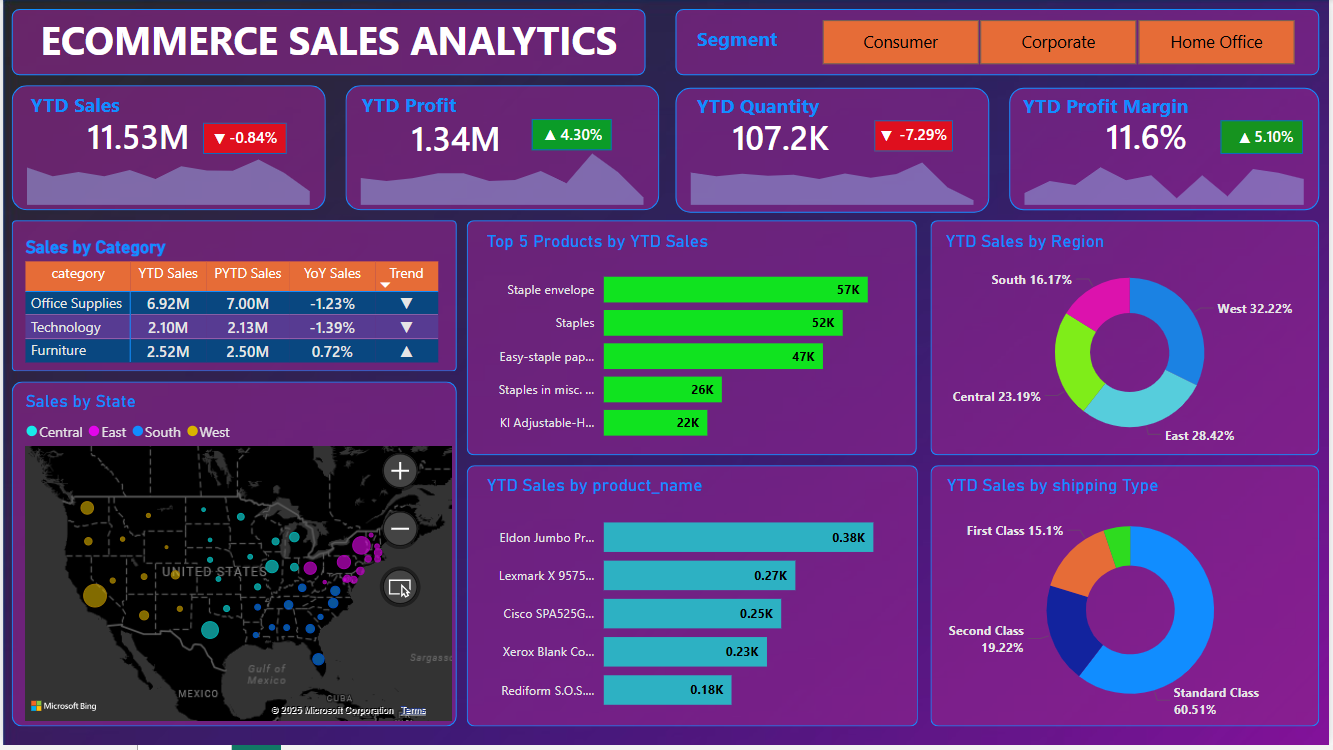

Layout of this report page (visuals, bound fields, positions):
{"tool":"powerbi","page":{"name":"Page 1","canvas":[1280,720],"ordinal":0},"visuals":[{"type":"shape","box":[649.1,9.7,621.3,63.9],"z":0},{"type":"shape","box":[8.4,213.5,429.5,146],"z":1000},{"type":"shape","box":[8.4,9.7,611.7,63.9],"z":2000},{"type":"textbox","box":[8.4,9.7,611.7,76],"z":3000},{"type":"shape","box":[8.4,83.2,303,120.6],"z":4000},{"type":"shape","box":[330.6,83.2,302.8,120.6],"z":5000},{"type":"shape","box":[971.2,85.7,299.2,118.2],"z":6000},{"type":"shape","box":[649.1,85.7,302.8,120.6],"z":7000},{"type":"card","fields":{"Values":["ecommerce_data.YTD Sales"]},"box":[51.9,114.6,158,37.4],"z":8000},{"type":"areaChart","fields":{"Y":["Sum(ecommerce_data.sales_per_order)"],"Category":["Calender.Month"]},"box":[8.4,133.9,302.8,70],"z":9000},{"type":"card","fields":{"Values":["ecommerce_data.YTD Profit"]},"box":[353.5,105,167.7,60.3],"z":10000},{"type":"areaChart","fields":{"Category":["Calender.Month"],"Y":["Sum(ecommerce_data.profit_per_order)"]},"box":[330.6,133.9,302.8,70],"z":11000},{"type":"textbox","box":[8.4,84.5,123.1,36.2],"z":12000},{"type":"textbox","box":[305.2,84.5,173.7,39.8],"z":13000},{"type":"textbox","box":[664.7,85.7,164.1,35],"z":14000},{"type":"textbox","box":[979.6,85.7,195.4,36.2],"z":15000},{"type":"card","fields":{"Values":["ecommerce_data.YTD Quantity"]},"box":[679.2,107.4,142.4,53.1],"z":16000},{"type":"areaChart","fields":{"Category":["Calender.Month"],"Y":["Sum(ecommerce_data.order_quantity)"]},"box":[649.1,142.4,302.8,61.5],"z":17000},{"type":"shape","box":[193,119.4,80.8,30.2],"z":18000},{"type":"card","fields":{"Values":["ecommerce_data.YoY Sales"]},"box":[209.9,114.6,63.9,42.2],"z":19000},{"type":"shape","box":[510.3,115.8,77.2,30.2],"z":20000},{"type":"card","fields":{"Values":["ecommerce_data.YoY Profit"]},"box":[529.6,113.4,57.9,38.6],"z":21000},{"type":"shape","box":[840.9,117,76,30.2],"z":22000},{"type":"card","fields":{"Values":["ecommerce_data.YOY Qunatity"]},"box":[860.2,113.4,56.7,38.6],"z":23000},{"type":"shape","box":[1175.1,117,79.6,32.6],"z":24000},{"type":"card","fields":{"Values":["ecommerce_data.Sales Icon"]},"box":[190.6,121.9,37.4,25.3],"z":25000},{"type":"card","fields":{"Values":["ecommerce_data.Profit Icon"]},"box":[510.3,118.2,36.2,30.2],"z":26000},{"type":"card","fields":{"Values":["ecommerce_data.Quantity Icon"]},"box":[832.4,119.4,41,29],"z":27000},{"type":"card","fields":{"Values":["ecommerce_data.YoY Profit Margin"]},"box":[1198,119.4,57.9,31.4],"z":28000},{"type":"card","fields":{"Values":["ecommerce_data.YTD Profit Marginr"]},"box":[1042.4,107.4,123.1,50.7],"z":29000},{"type":"areaChart","fields":{"Category":["Calender.Month"],"Y":["ecommerce_data.Profit Margin"]},"box":[971.2,142.4,299.2,61.5],"z":30000},{"type":"card","fields":{"Values":["ecommerce_data.Profit Margirn Icon"]},"box":[1177.5,117,42.2,37.4],"z":31000},{"type":"pivotTable","title":"Sales by Category","fields":{"Rows":["ecommerce_data.category_name"],"Values":["ecommerce_data.YTD Sales","ecommerce_data.PYTD Sales","ecommerce_data.YoY Sales","ecommerce_data.Sales Icon"]},"box":[16.9,229.2,411.4,130.3],"z":32000},{"type":"shape","box":[447.6,213.5,434.3,226.8],"z":33000},{"type":"clusteredBarChart","title":"Top 5 Products by YTD Sales","fields":{"Category":["ecommerce_data.product_name"],"Y":["ecommerce_data.YTD Sales"]},"box":[462.1,223.2,419.8,217.2],"z":34000},{"type":"shape","box":[447.6,450,435.5,252.1],"z":35000},{"type":"clusteredBarChart","fields":{"Category":["ecommerce_data.product_name"],"Y":["ecommerce_data.YTD Sales"]},"box":[462.1,458.4,419.8,243.7],"z":36000},{"type":"shape","box":[895.2,450,375.2,252.1],"z":37000},{"type":"shape","box":[895.2,213.5,375.2,226.8],"z":38000},{"type":"donutChart","title":"YTD Sales by Region","fields":{"Category":["ecommerce_data.customer_region"],"Y":["ecommerce_data.YTD Sales"]},"box":[904.8,223.2,365.6,217.2],"z":39000},{"type":"donutChart","title":"YTD Sales by shipping Type","fields":{"Y":["ecommerce_data.YTD Sales"],"Category":["ecommerce_data.shipping_type"]},"box":[906,458.4,364.3,243.7],"z":40000},{"type":"shape","box":[8.4,369.2,429.5,333],"z":41000},{"type":"map","title":"Sales by State","fields":{"Series":["ecommerce_data.customer_region"],"Size":["ecommerce_data.YTD Sales"],"Y":["us_state_long_lat_codes.latitude"],"X":["us_state_long_lat_codes.longitude"]},"box":[16.9,377.6,421,324.5],"z":42000},{"type":"slicer","fields":{"Values":["ecommerce_data.customer_segment"]},"box":[764.9,13.3,505.5,56.7],"z":43000},{"type":"textbox","box":[664.7,20.5,117,42.2],"z":43001}]}

Visuals, with their boxes in screenshot pixels (x1, y1, x2, y2), scaled from the page's 1280x720 canvas onto the 1333x750 screenshot:
shape: rect(676, 10, 1323, 77)
shape: rect(9, 222, 456, 374)
shape: rect(9, 10, 646, 77)
textbox: rect(9, 10, 646, 89)
shape: rect(9, 87, 324, 212)
shape: rect(344, 87, 660, 212)
shape: rect(1011, 89, 1323, 212)
shape: rect(676, 89, 991, 215)
card - ecommerce_data.YTD Sales: rect(54, 119, 219, 158)
areaChart - Sum(ecommerce_data.sales_per_order) x Calender.Month: rect(9, 139, 324, 212)
card - ecommerce_data.YTD Profit: rect(368, 109, 543, 172)
areaChart - Calender.Month x Sum(ecommerce_data.profit_per_order): rect(344, 139, 660, 212)
textbox: rect(9, 88, 137, 126)
textbox: rect(318, 88, 499, 129)
textbox: rect(692, 89, 863, 126)
textbox: rect(1020, 89, 1224, 127)
card - ecommerce_data.YTD Quantity: rect(707, 112, 856, 167)
areaChart - Calender.Month x Sum(ecommerce_data.order_quantity): rect(676, 148, 991, 212)
shape: rect(201, 124, 285, 156)
card - ecommerce_data.YoY Sales: rect(219, 119, 285, 163)
shape: rect(531, 121, 612, 152)
card - ecommerce_data.YoY Profit: rect(552, 118, 612, 158)
shape: rect(876, 122, 955, 153)
card - ecommerce_data.YOY Qunatity: rect(896, 118, 955, 158)
shape: rect(1224, 122, 1307, 156)
card - ecommerce_data.Sales Icon: rect(198, 127, 237, 153)
card - ecommerce_data.Profit Icon: rect(531, 123, 569, 155)
card - ecommerce_data.Quantity Icon: rect(867, 124, 910, 155)
card - ecommerce_data.YoY Profit Margin: rect(1248, 124, 1308, 157)
card - ecommerce_data.YTD Profit Marginr: rect(1086, 112, 1214, 165)
areaChart - Calender.Month x ecommerce_data.Profit Margin: rect(1011, 148, 1323, 212)
card - ecommerce_data.Profit Margirn Icon: rect(1226, 122, 1270, 161)
"Sales by Category" pivotTable: rect(18, 239, 446, 374)
shape: rect(466, 222, 918, 459)
"Top 5 Products by YTD Sales" clusteredBarChart: rect(481, 232, 918, 459)
shape: rect(466, 469, 920, 731)
clusteredBarChart - ecommerce_data.product_name x ecommerce_data.YTD Sales: rect(481, 478, 918, 731)
shape: rect(932, 469, 1323, 731)
shape: rect(932, 222, 1323, 459)
"YTD Sales by Region" donutChart: rect(942, 232, 1323, 459)
"YTD Sales by shipping Type" donutChart: rect(944, 478, 1323, 731)
shape: rect(9, 385, 456, 731)
"Sales by State" map: rect(18, 393, 456, 731)
slicer - ecommerce_data.customer_segment: rect(797, 14, 1323, 73)
textbox: rect(692, 21, 814, 65)
